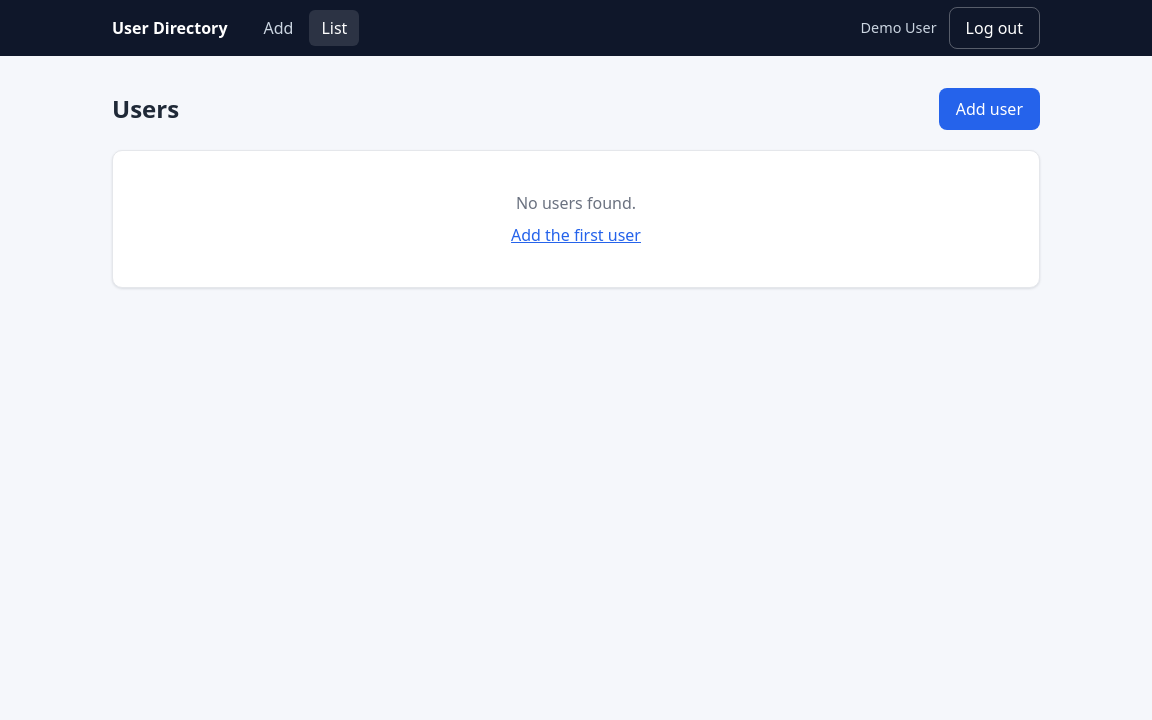
Test: App routing & navigation › shows the top bar with Add and List links and navigates between pages
This screenshot has width=1152, height=720.
Expected: the heading "Users" is shown, [112, 91, 179, 127]
Expected: the text "Demo User" is shown, [861, 17, 937, 39]
Step 1. Click the link "Add" → (278, 28), box [264, 17, 293, 39]
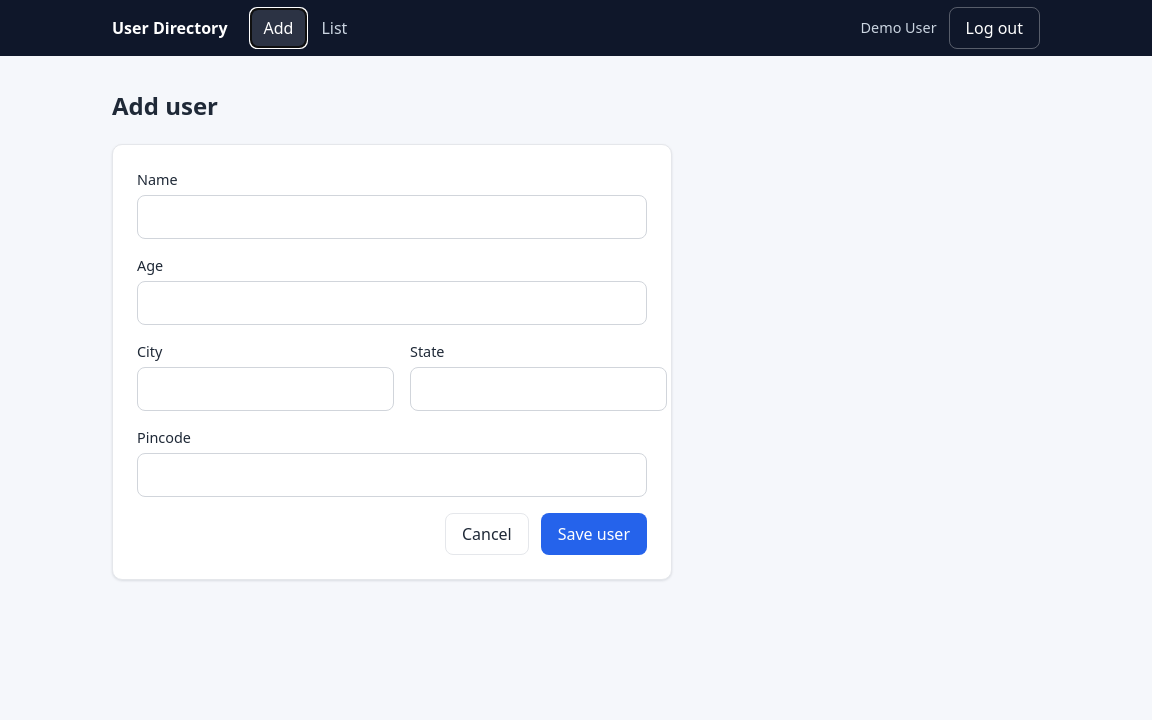
Expected: the heading "Add user" is shown, [112, 88, 218, 124]
Step 2. Click the link "List" → (334, 28), box [321, 17, 347, 39]
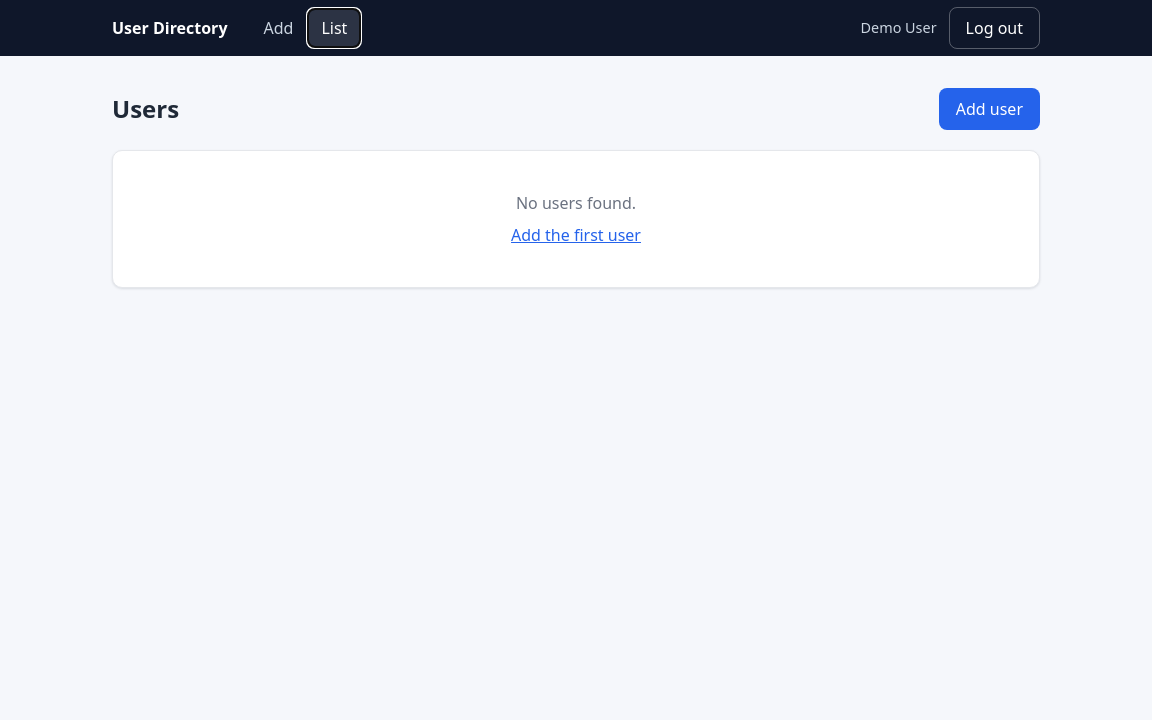
Expected: the heading "Users" is shown, [112, 91, 179, 127]
